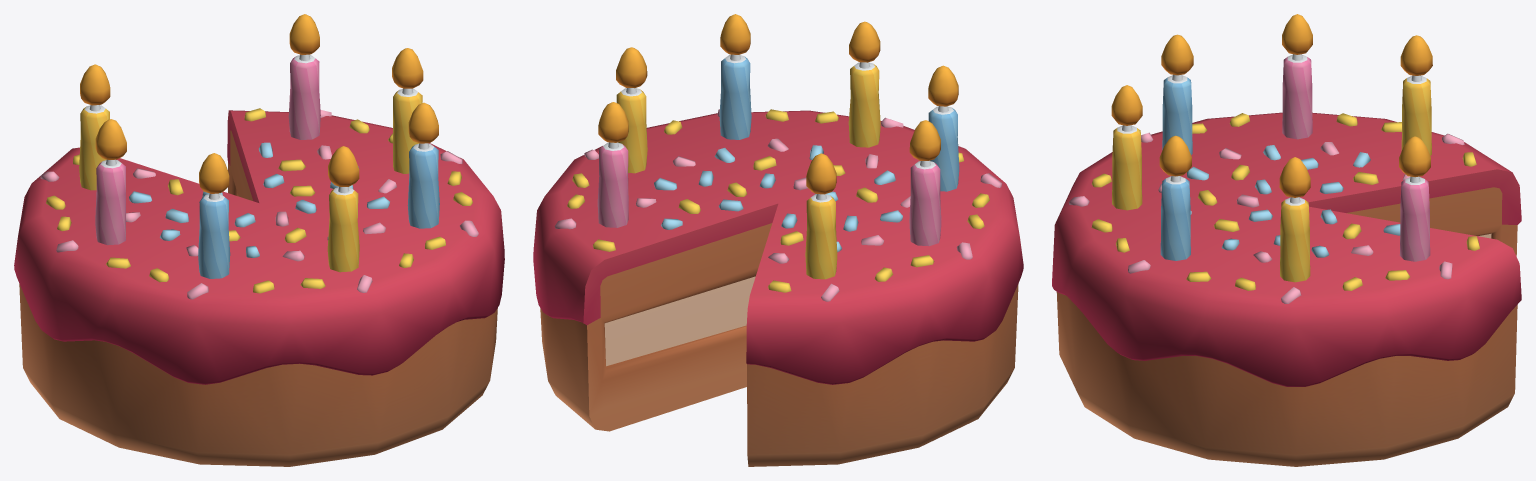
The model's file is Cake Birthday Cut.glb.
3 renders of one model, left to right at view 1: azimuth 30°, elevation 25°; view 2: azimuth 150°, elevation 25°; view 3: azimuth 270°, elevation 25°, orthographic.
Visible parts, largest first — view 1: cake_birthday_cut, cake_birthday_cut_candle_fire; view 2: cake_birthday_cut, cake_birthday_cut_candle_fire; view 3: cake_birthday_cut, cake_birthday_cut_candle_fire.
Part boxes in pixels (x1,y1,x2,y2): cake_birthday_cut: (14,54,504,466); cake_birthday_cut_candle_fire: (80,14,438,193); cake_birthday_cut: (533,54,1023,466); cake_birthday_cut_candle_fire: (598,14,958,194); cake_birthday_cut: (1052,54,1521,466); cake_birthday_cut_candle_fire: (1111,14,1432,197).
Bounding box in the file's own units: 1.22 × 0.8021 × 1.17.
Materials: 1 (1 with a texture image).
